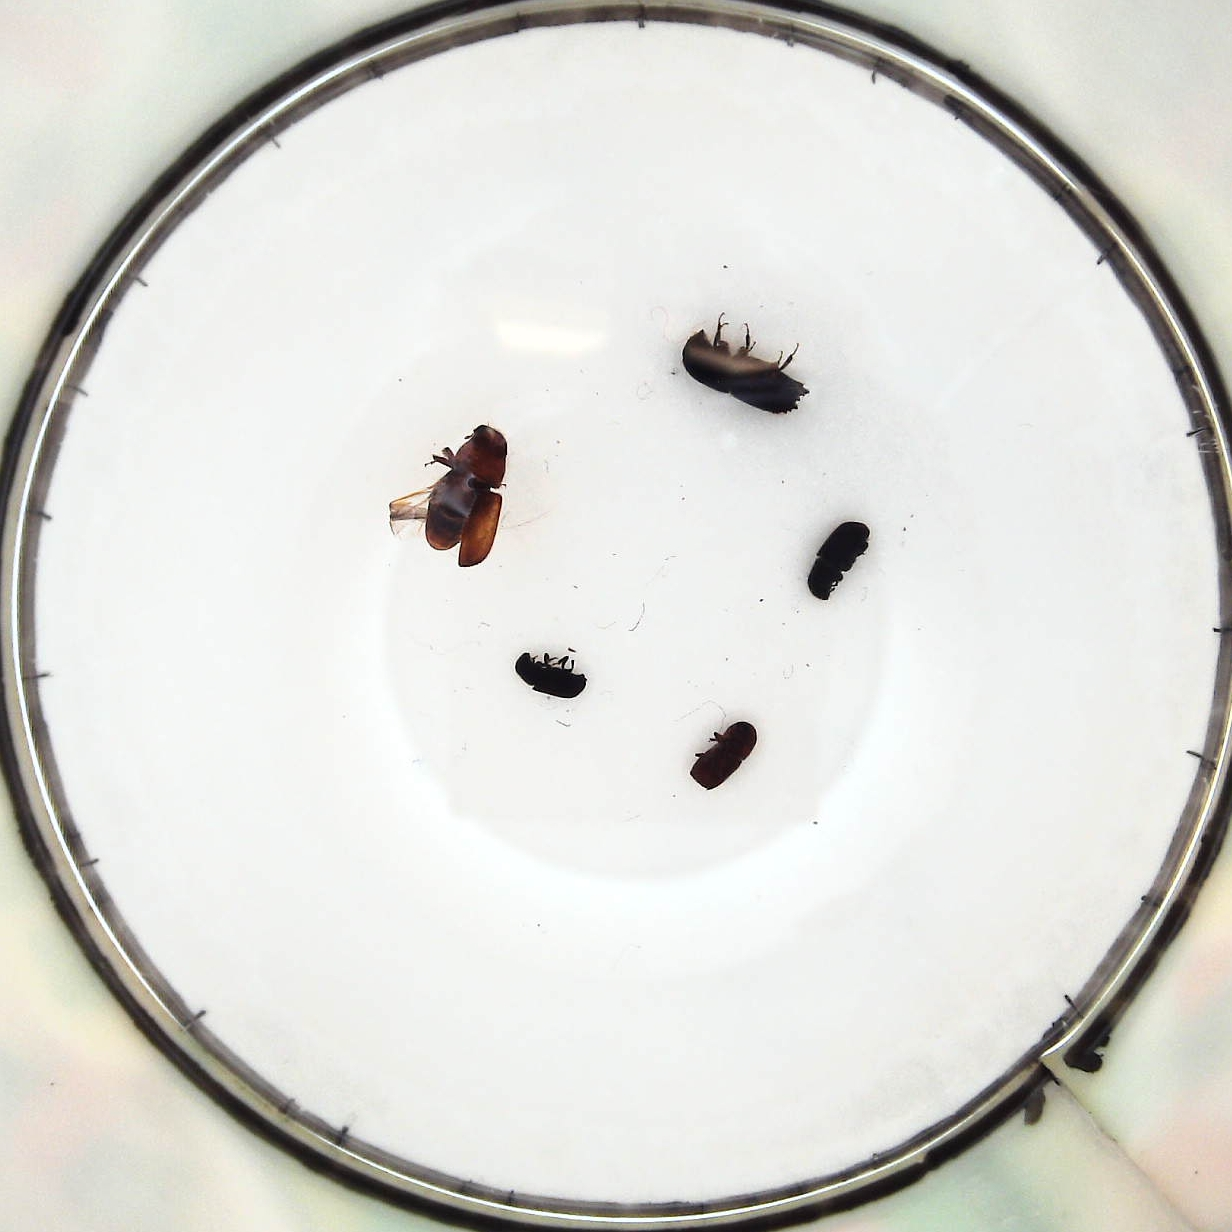Boerner: (680, 316, 807, 421)
Leconte: (380, 424, 502, 565)
Linnaeus: (692, 719, 753, 792)
armandi: (807, 519, 868, 602)
coleoptera: (507, 653, 590, 702)
